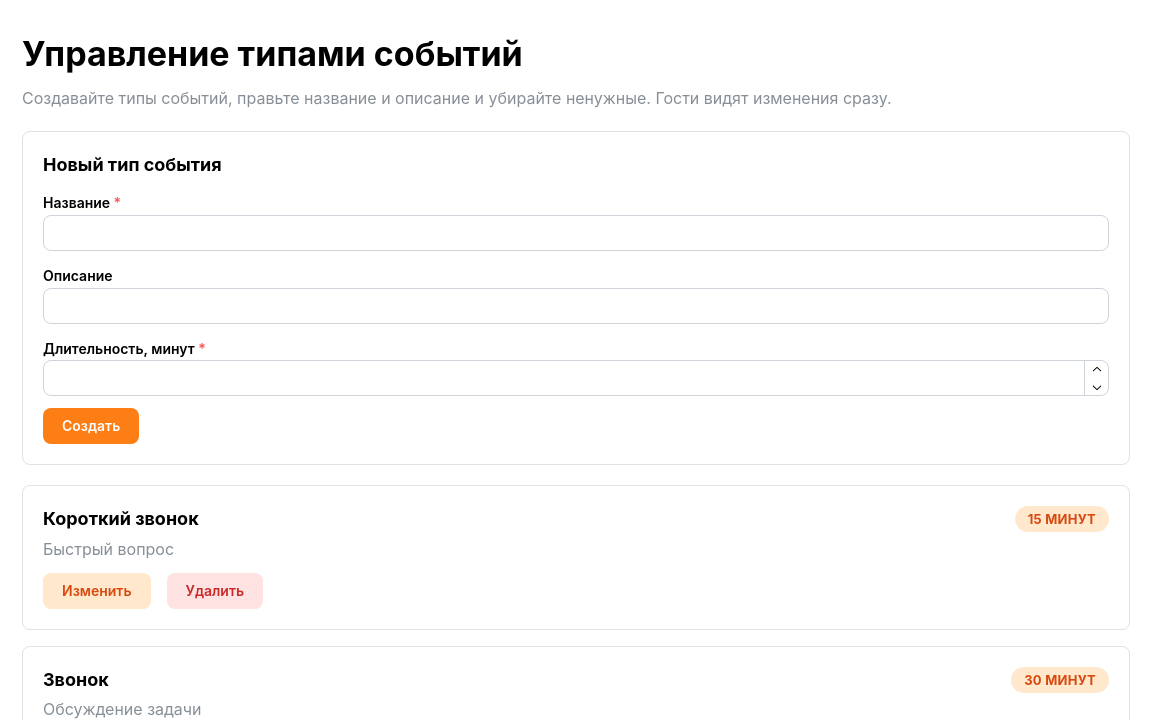
Test case: AdminPage › удаляет тип события из списка
Click the button "Удалить": (215, 591) top-left (166, 573), bottom-right (263, 609)
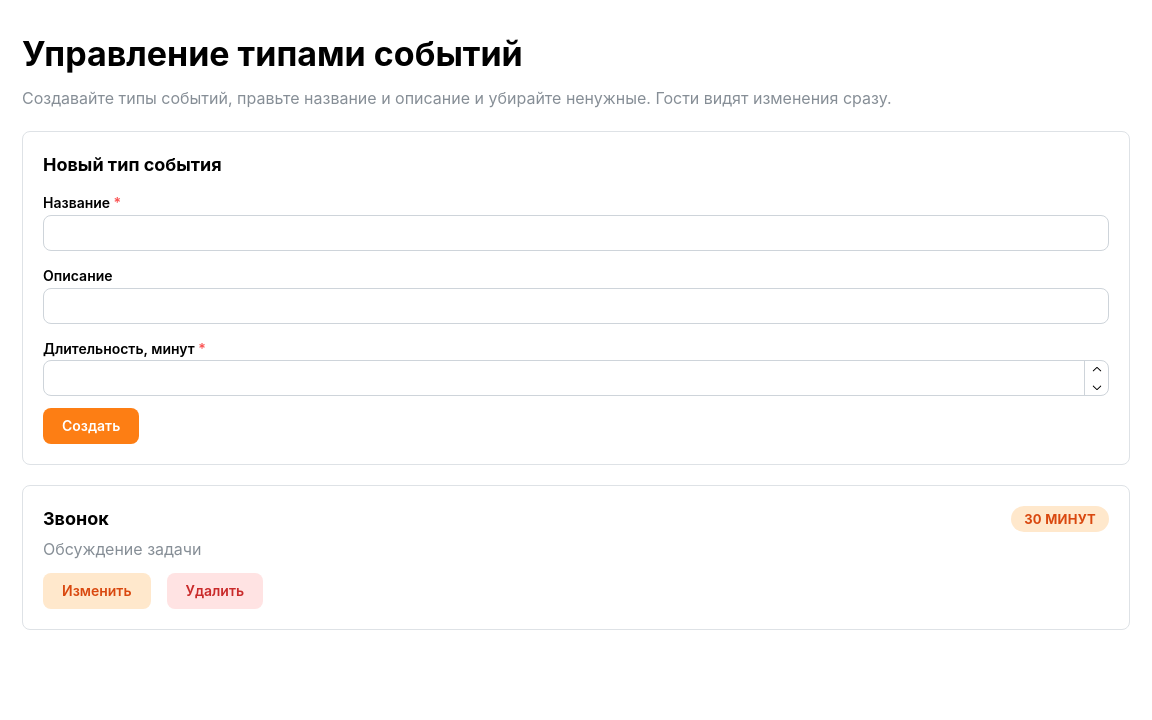
Expected: the heading "Звонок" is shown, top-left (43, 508), bottom-right (109, 530)
Now the heading "Короткий звонок" is gone
